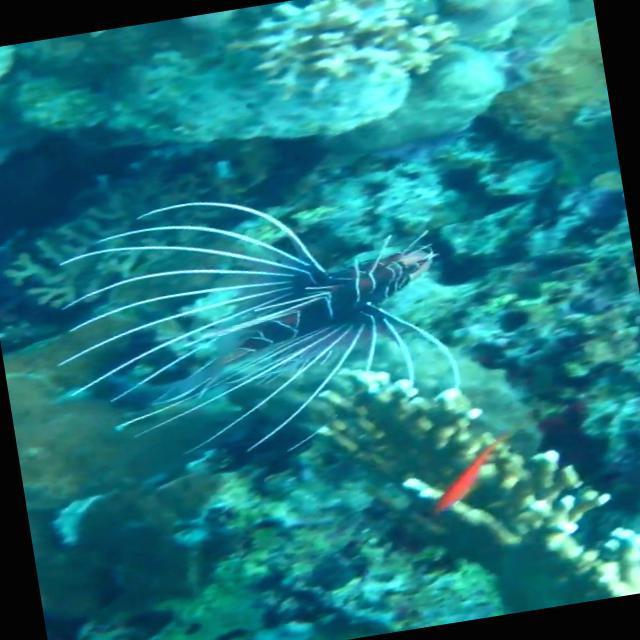Aslan Baligi: (29, 163, 472, 485)
